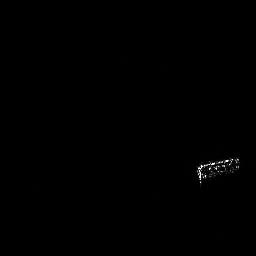ship: (196, 157, 242, 188)
